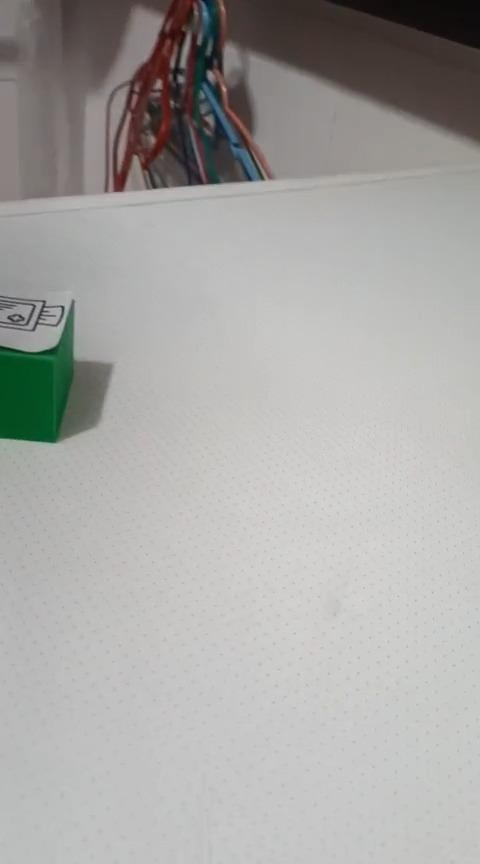Gauze: (0, 289, 75, 443)
